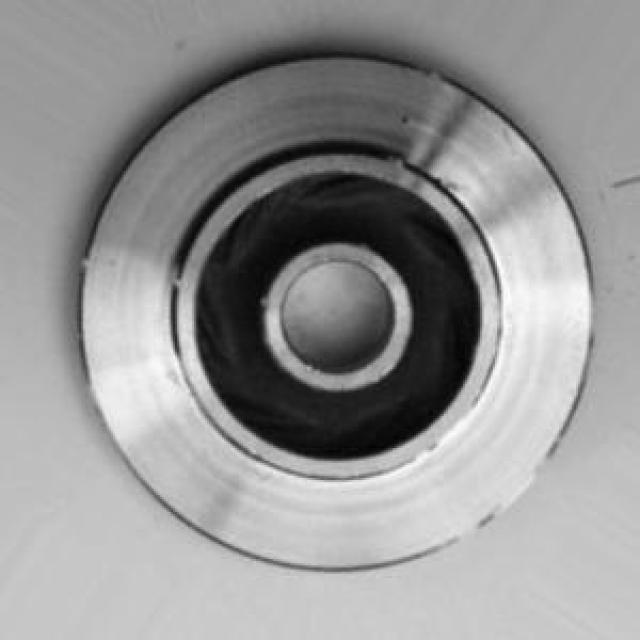Defect: (394, 107, 418, 132)
